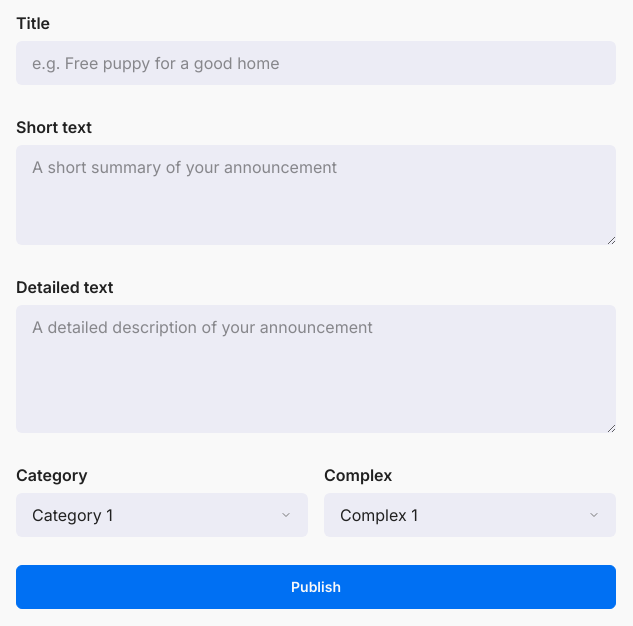
Test: NewPostForm - Integration › should successfully submit form when all fields are valid
The image size is (633, 626).
// Заполняем текстовые поля
In the field labelled "Title": x=316, y=63 [16, 41, 616, 85], type "My New Awesome Post"
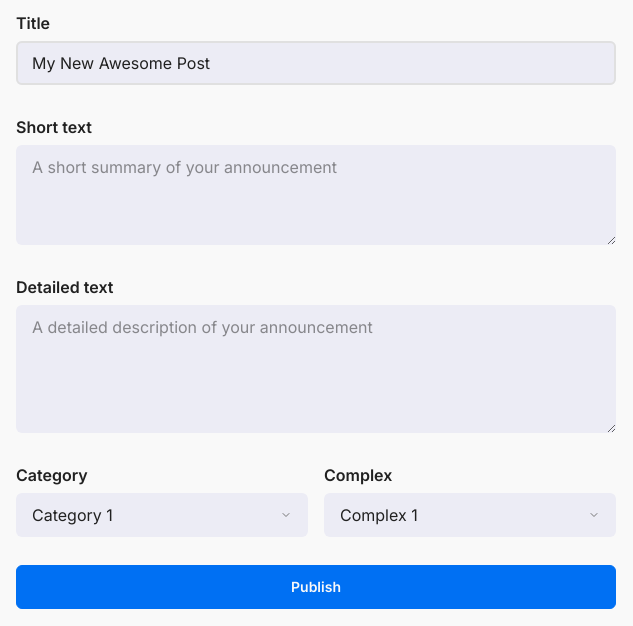
In the text box labelled "Short text": x=316, y=195 [16, 145, 616, 245], type "This is a short description"
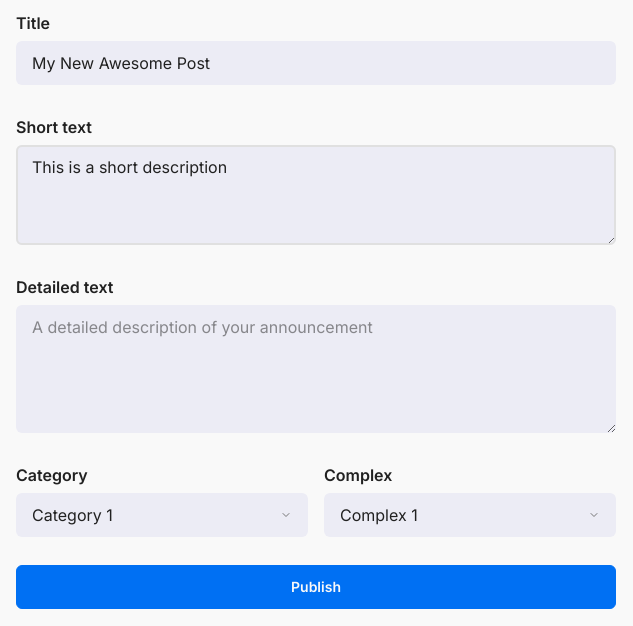
In the text box labelled "Detailed text": x=316, y=369 [16, 305, 616, 433], type "This is a much longer full text for the post content"
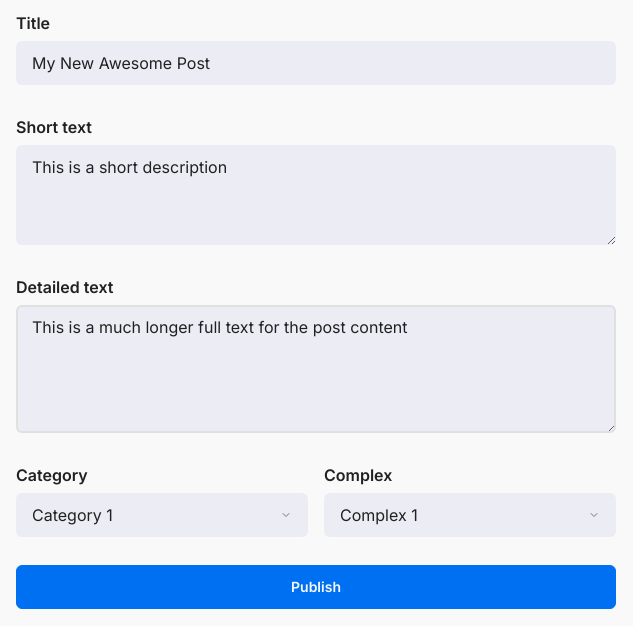
Click the button "Publish": x=316, y=587 [16, 565, 616, 609]
Wait 5000 ms
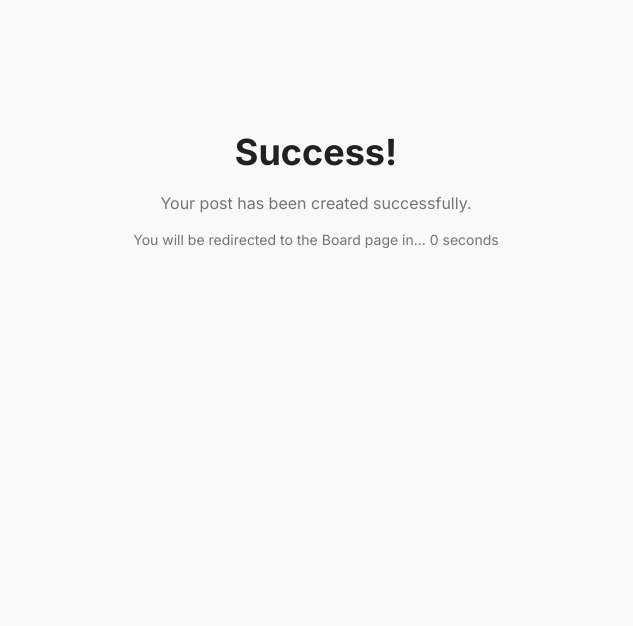
Expected: the text "Your post has been created successfully." is shown, [160, 191, 472, 215]
